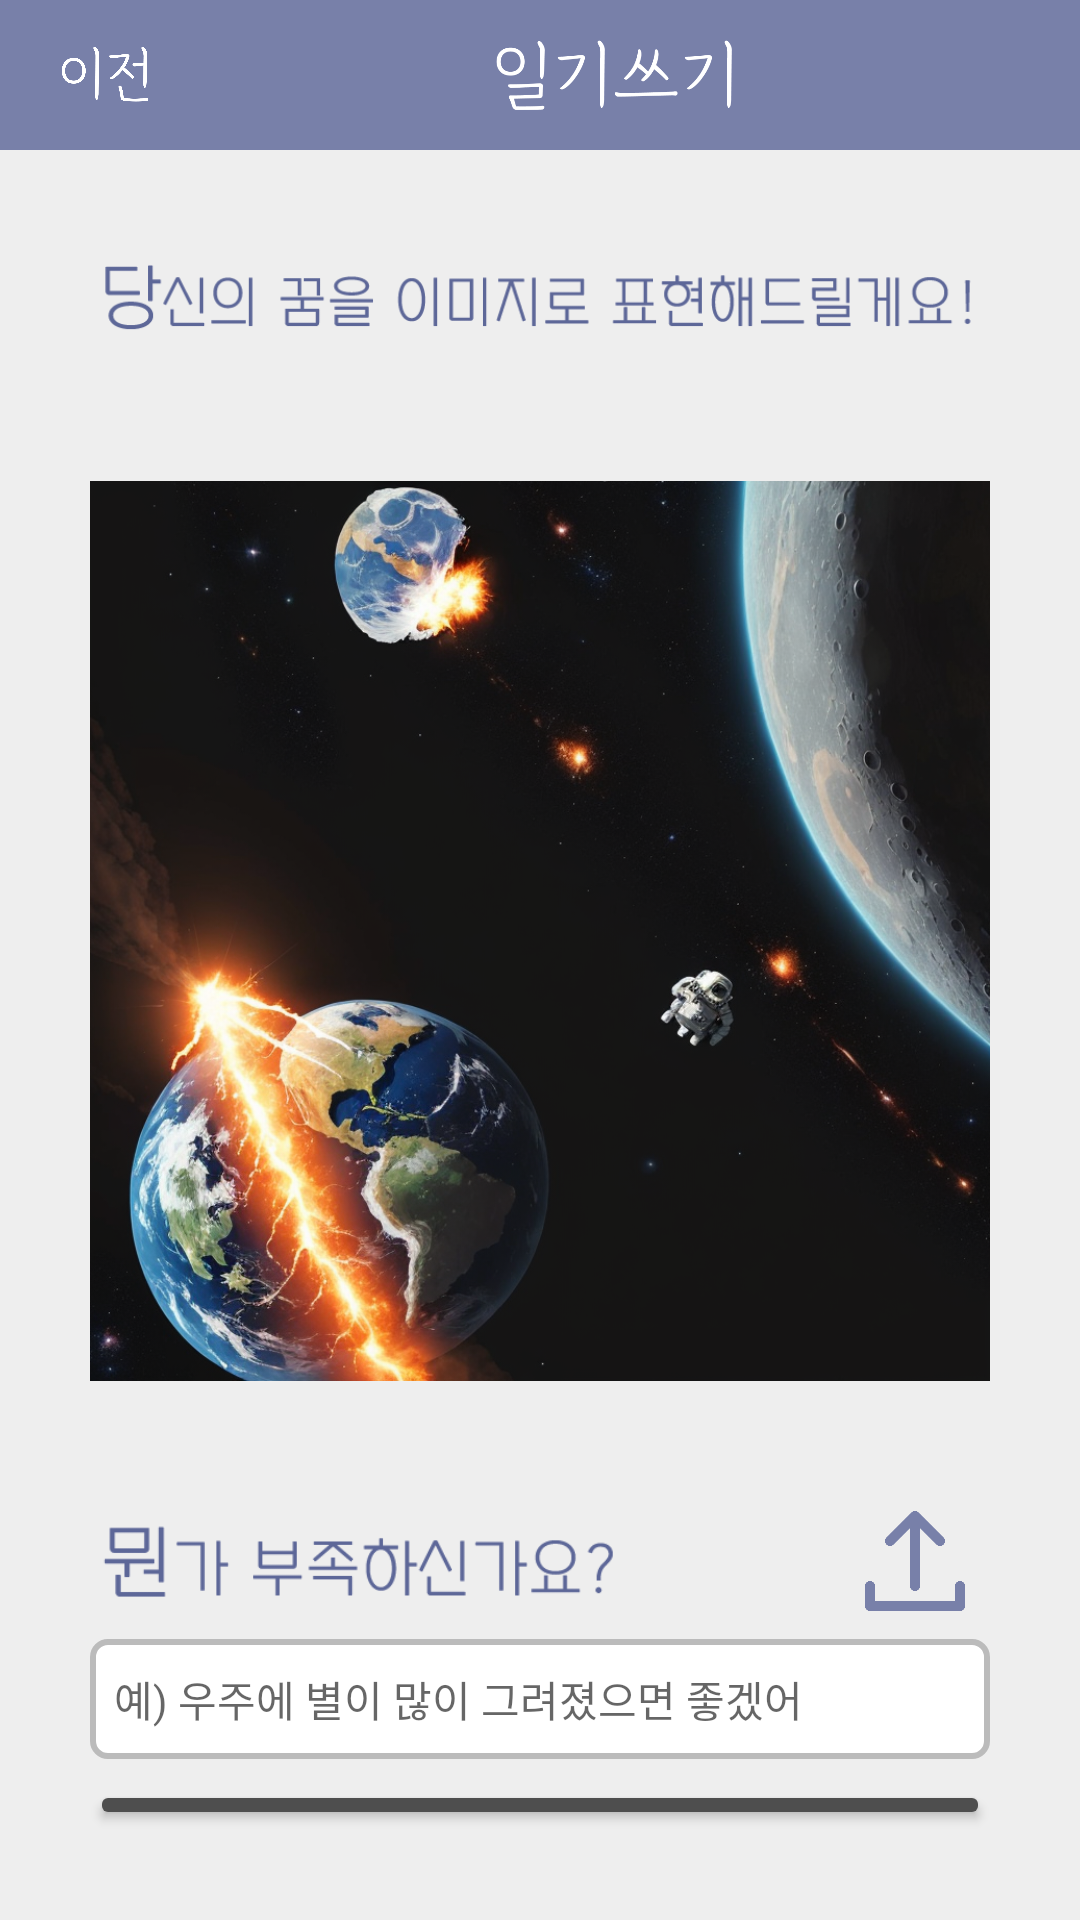

Where icons sit on this 1080w x 1920h app screen, as (x1, y1, x2, y2):
upload: (865, 1511, 965, 1611)
